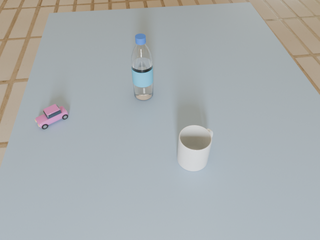bottle: (131, 34, 153, 100)
cup: (177, 125, 213, 171)
toy_car: (35, 104, 68, 129)
